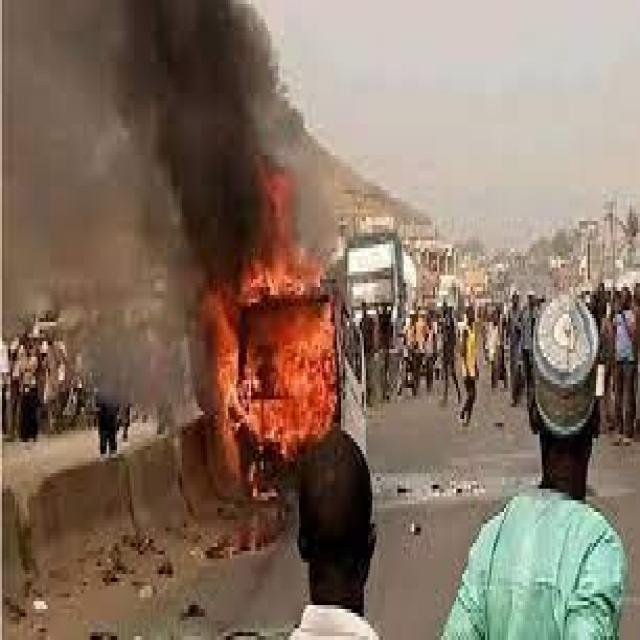fire: (203, 283, 341, 450), (241, 167, 322, 295)
smoke: (44, 4, 270, 275)
